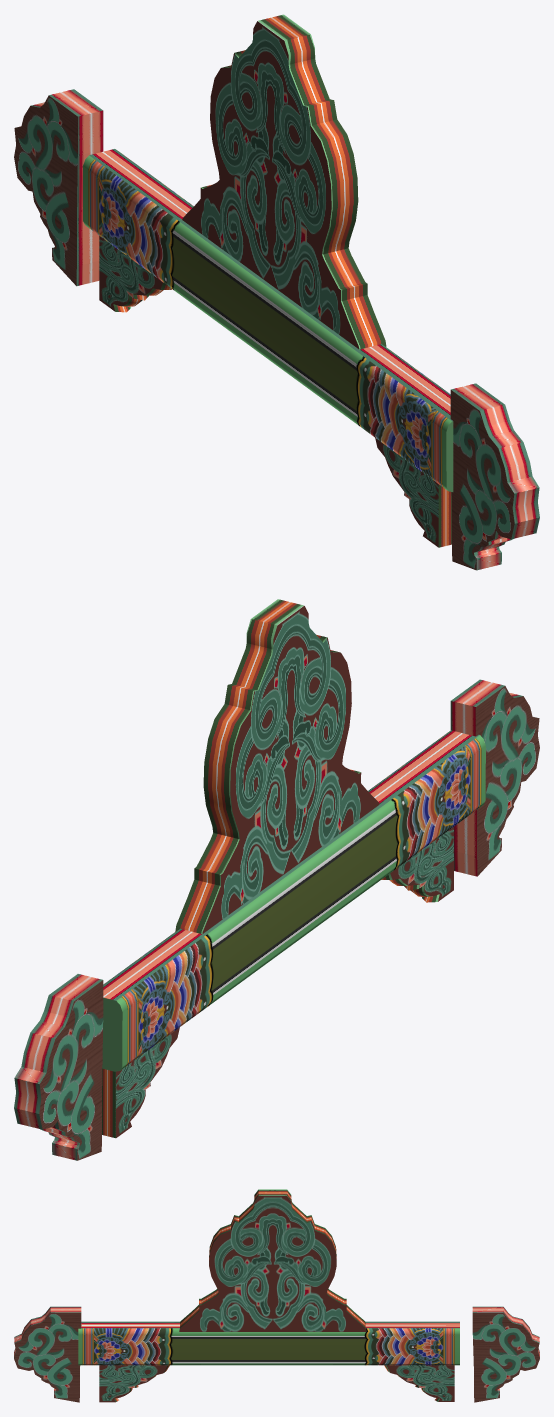
The model's file is SM_R_MiddleBeam_19.fbx.
The picture shows the model from 3 angles, top to bottom: view 1: azimuth 30°, elevation 25°; view 2: azimuth 150°, elevation 25°; view 3: azimuth 270°, elevation 25°; orthographic projection. The views are drawn at different scales.
Parts seen in each view (by area): view 1: SM_R_MiddleBeam_19; view 2: SM_R_MiddleBeam_19; view 3: SM_R_MiddleBeam_19.
Boxes of the visible parts, x1,y1,x2,y2 form: SM_R_MiddleBeam_19: (14, 14, 539, 570); SM_R_MiddleBeam_19: (14, 599, 539, 1160); SM_R_MiddleBeam_19: (14, 1189, 539, 1402).
Size of the model in its own units: 18.53 by 422 by 185.
Materials: 6 (6 with a texture image).
